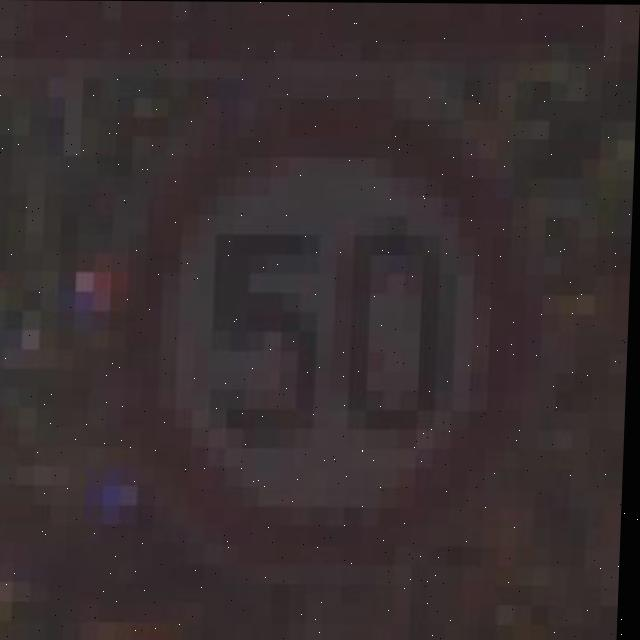Speed limit 50: (1, 1, 639, 640)
